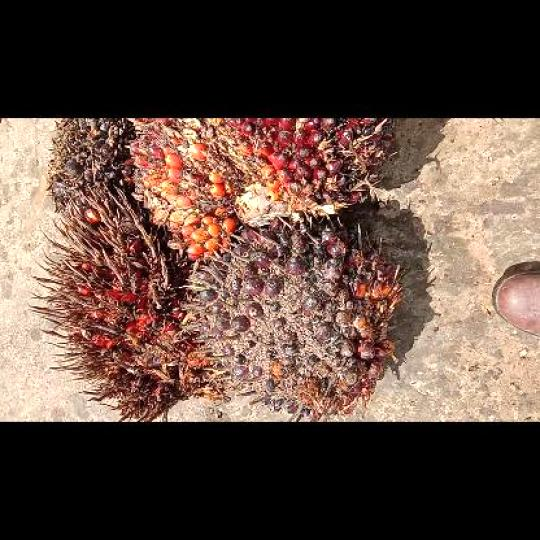kurang masak: (182, 209, 402, 419)
masak: (124, 118, 398, 258)
terlalu masak: (27, 185, 230, 420)
